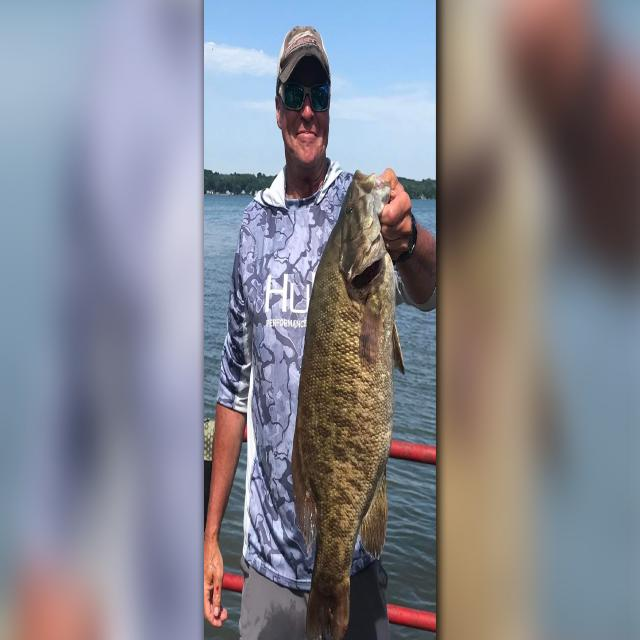Bass - Smallmouth: (291, 171, 404, 638)
